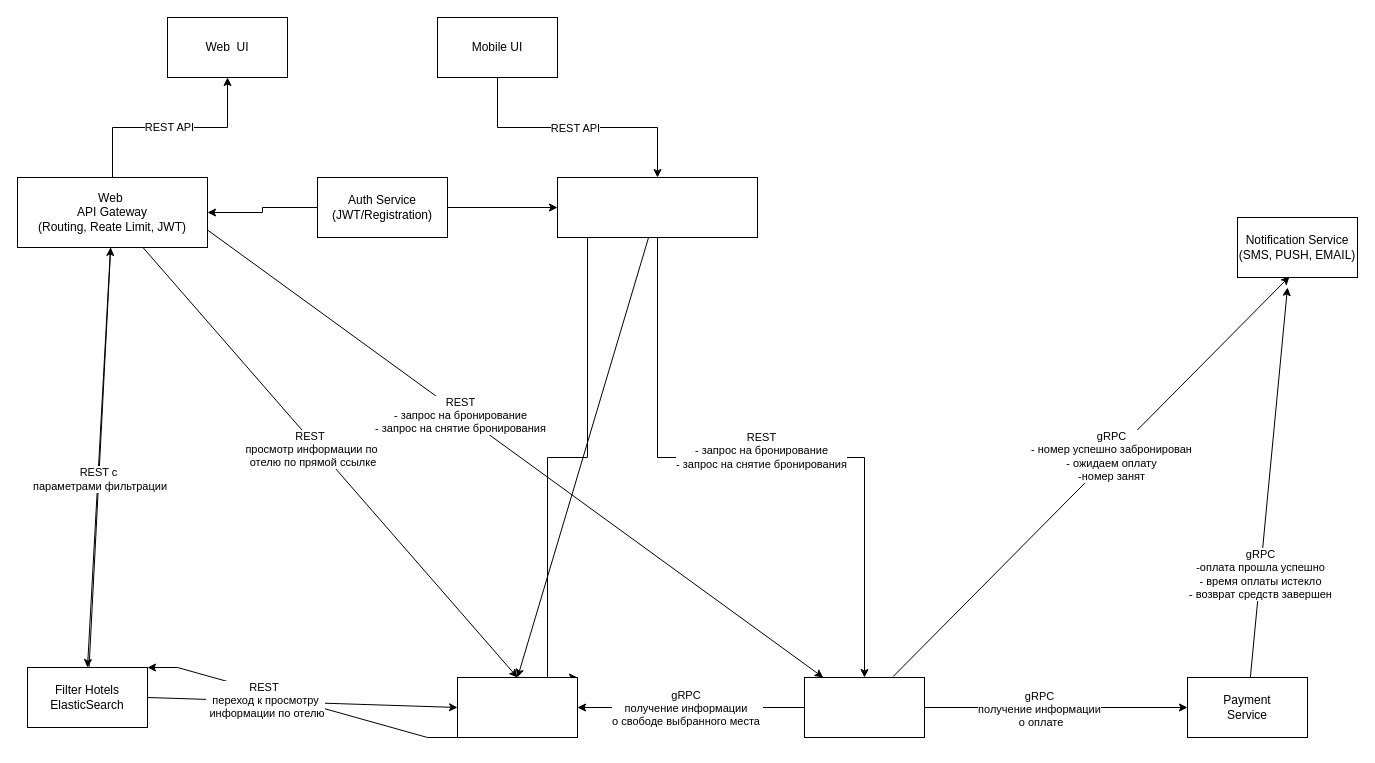
The diagram is 1375 pixels wide and 763 high, and some of its shapes have lost their labels. Each missing label, with the centre of its shape:
"Booking Service" belongs at point 864,707.
"Information Store (CRUD)" belongs at point 517,707.
"Mobile API Gateway (Routing, Reate Limit, JWT)" belongs at point 657,207.
